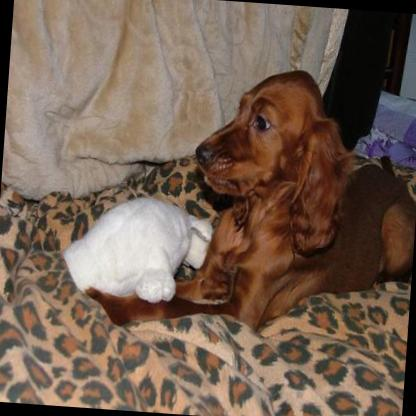Irish_setter: (77, 53, 416, 346)
